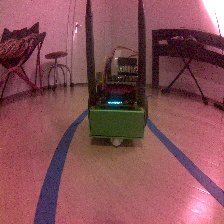rob: (86, 55, 149, 147)
